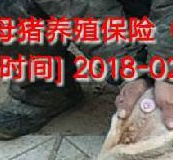text: (128, 89, 166, 124)
